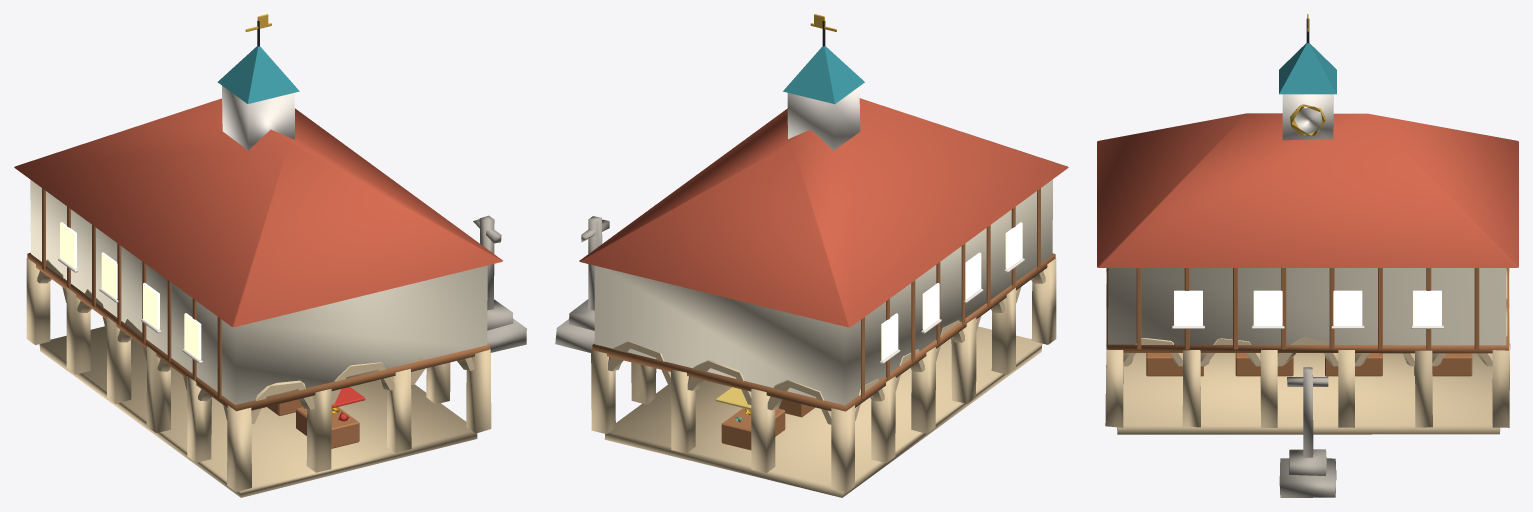
The model's file is market_hall.glb.
The picture shows the model from 3 angles, left to right: view 1: azimuth 30°, elevation 25°; view 2: azimuth 150°, elevation 25°; view 3: azimuth 270°, elevation 25°; orthographic projection. The views are drawn at different scales.
Visible parts, largest first — view 1: market_hall; view 2: market_hall; view 3: market_hall.
Part boxes in pixels (x1,y1,x2,y2): market_hall: (14, 14, 526, 497); market_hall: (555, 14, 1068, 497); market_hall: (1097, 14, 1518, 497).
Size of the model in its own units: 17.91 by 16.69 by 17.47.
1 material, 1 textured.
